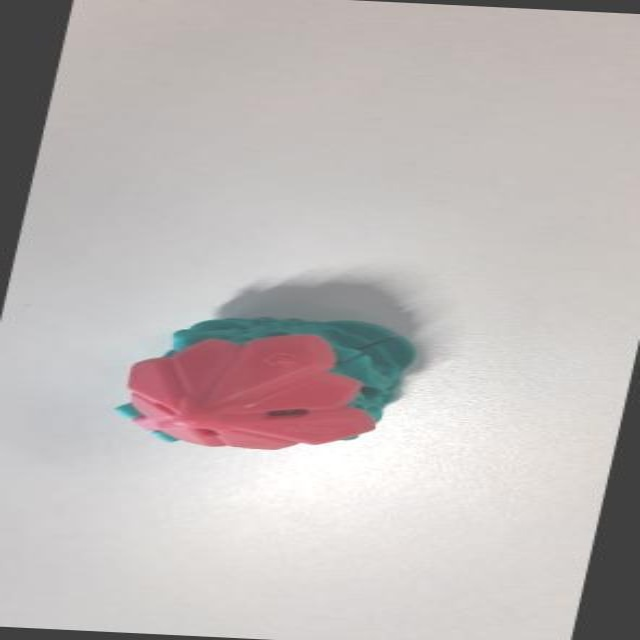House: (104, 302, 438, 466)
